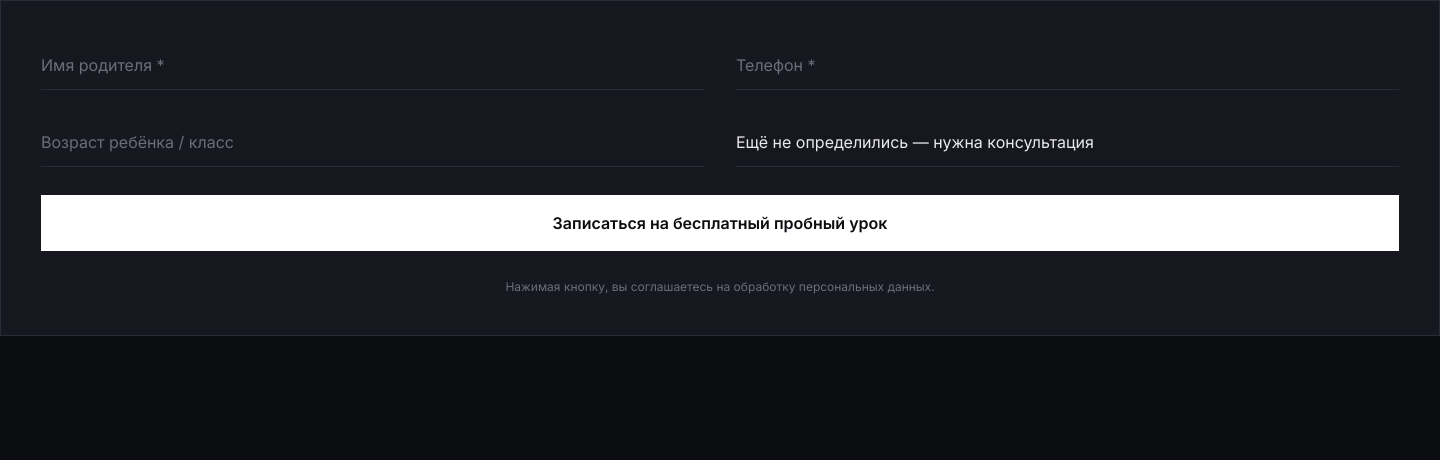
ApplicationForm › показывает сообщение об ошибке, если бэкенд недоступен
Type "Иван" into the field with placeholder "Имя родителя *" at x=372, y=66, box [41,41,704,90]
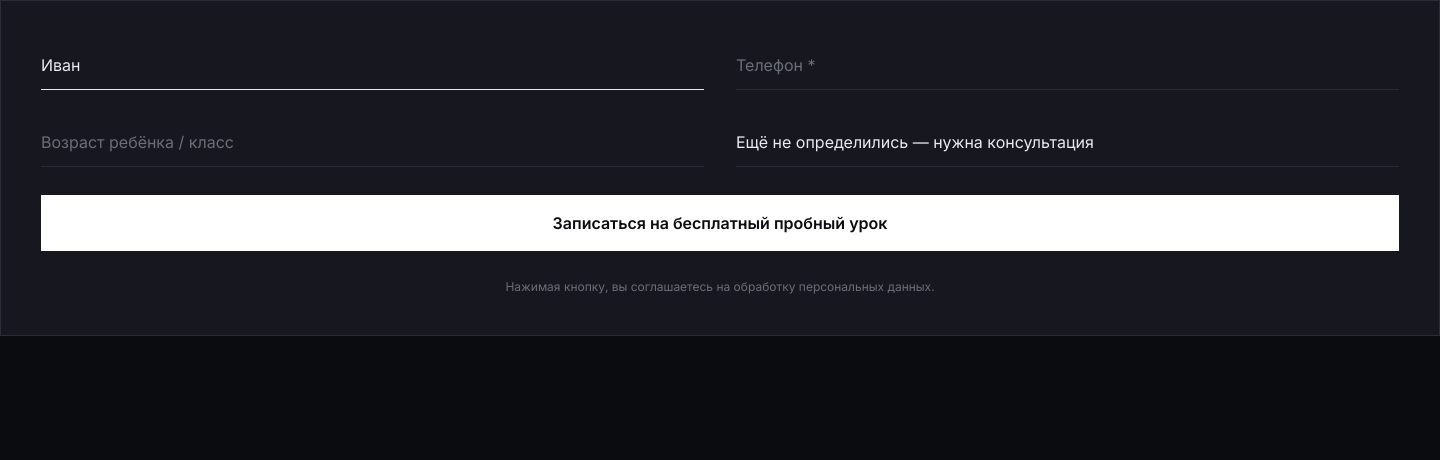
Type "+375291234567" into the field with placeholder "Телефон *" at x=1068, y=66, box [736,41,1399,90]
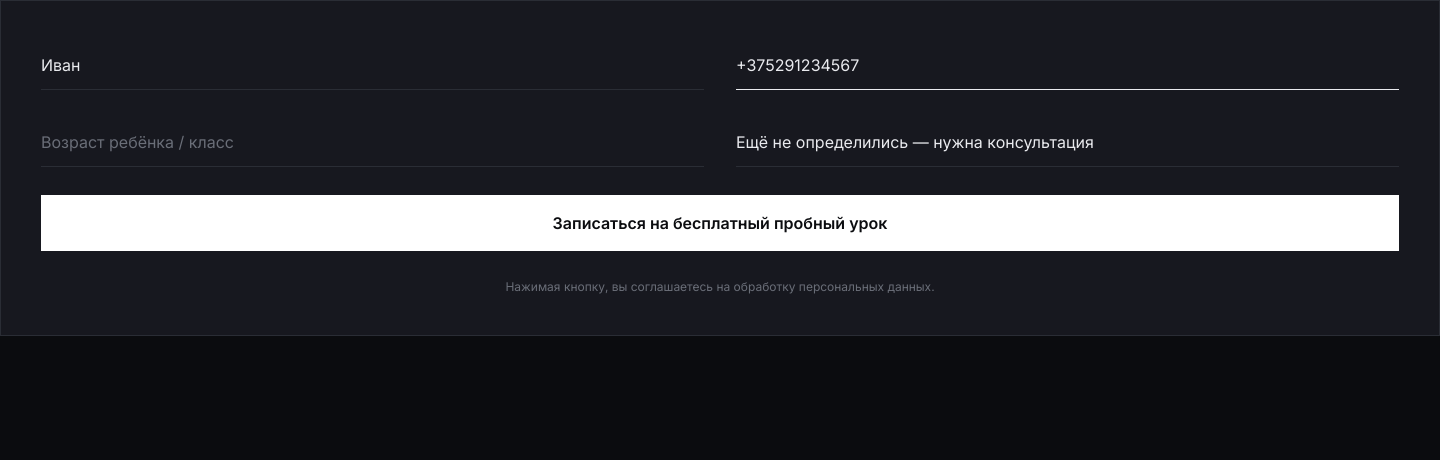
Click the button "Записаться на бесплатный пробный урок" at x=720, y=223, box [41,195,1399,251]
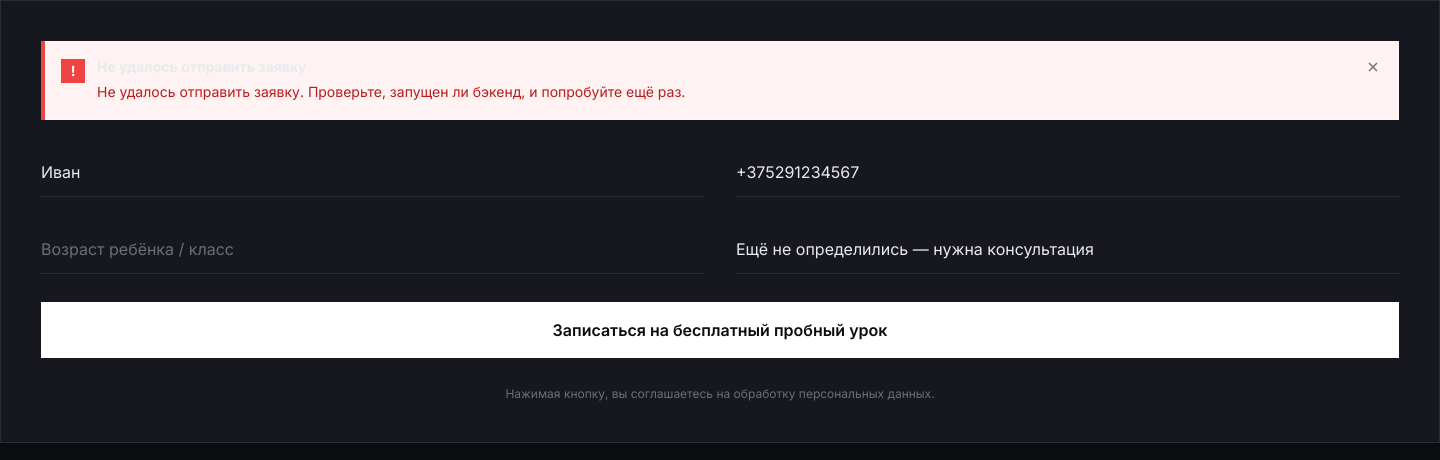
Check: the text "Проверьте, запущен ли бэкенд" is shown, box [97,83,685,100]
